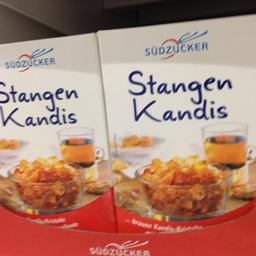sugar: (96, 12, 255, 234), (0, 32, 117, 231)
